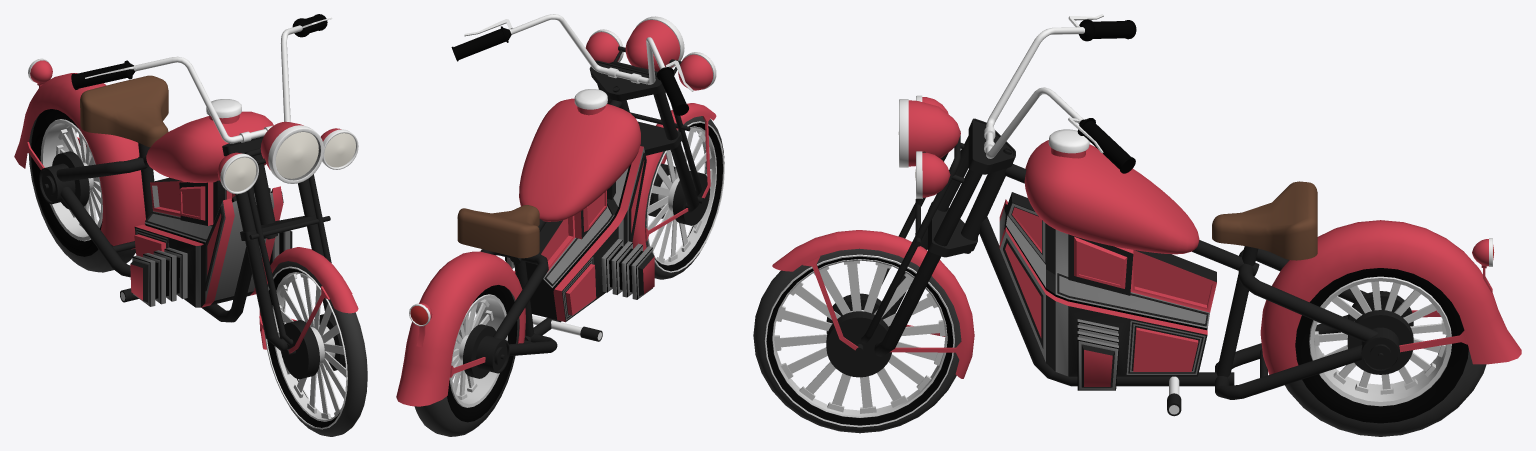
File: xyn-custom-bobber.glb
3 renders of one model, left to right at view 1: azimuth 30°, elevation 25°; view 2: azimuth 150°, elevation 25°; view 3: azimuth 270°, elevation 25°, orthographic. The views are drawn at different scales.
Visible parts, largest first — view 1: chassis_body, steering_upper_mesh, front_wheel_mesh, rear_wheel_mesh, lamp_headlight; view 2: chassis_body, steering_upper_mesh, rear_wheel_mesh, front_wheel_mesh; view 3: chassis_body, steering_upper_mesh, front_wheel_mesh, rear_wheel_mesh.
Part boxes in pixels (x1=…): chassis_body: x1=14, y1=58, x2=292, y2=322; steering_upper_mesh: x1=71, y1=14, x2=358, y2=379; front_wheel_mesh: x1=264, y1=261, x2=367, y2=436; rear_wheel_mesh: x1=28, y1=109, x2=135, y2=272; lamp_headlight: x1=224, y1=132, x2=355, y2=191; chassis_body: x1=396, y1=89, x2=654, y2=406; steering_upper_mesh: x1=451, y1=14, x2=716, y2=251; rear_wheel_mesh: x1=414, y1=285, x2=519, y2=436; front_wheel_mesh: x1=645, y1=116, x2=724, y2=279; chassis_body: x1=961, y1=129, x2=1521, y2=416; steering_upper_mesh: x1=772, y1=14, x2=1136, y2=378; front_wheel_mesh: x1=753, y1=248, x2=961, y2=433; rear_wheel_mesh: x1=1285, y1=268, x2=1486, y2=436.
Bounding box in the file's own units: 1.01 × 1.24 × 2.31.
